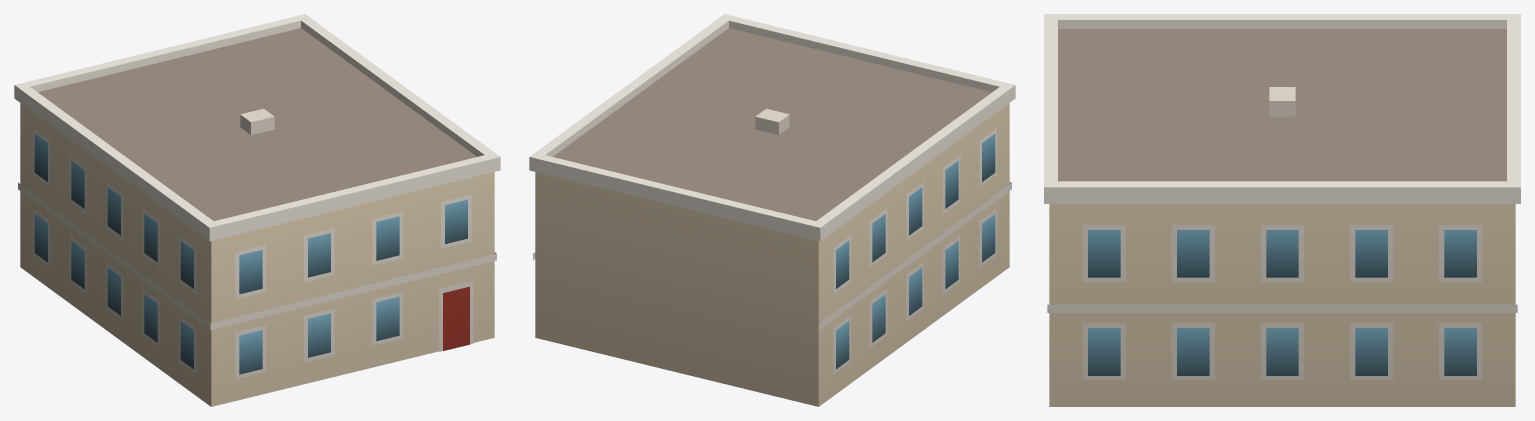
The model's file is boylston_s7_far.glb.
3 views of the same model, side by side, from view 1: azimuth 30°, elevation 25°; view 2: azimuth 150°, elevation 25°; view 3: azimuth 270°, elevation 25° (orthographic). The views are drawn at different scales.
Parts seen in each view (by area): view 1: boylston_s7_far; view 2: boylston_s7_far; view 3: boylston_s7_far.
Part boxes in pixels (<box>): boylston_s7_far: <box>14,14,500,406</box>; boylston_s7_far: <box>529,14,1015,406</box>; boylston_s7_far: <box>1044,14,1520,406</box>.
Size of the model in its own units: 12.32 by 7.57 by 14.32.
Materials: 1 (1 with a texture image).
